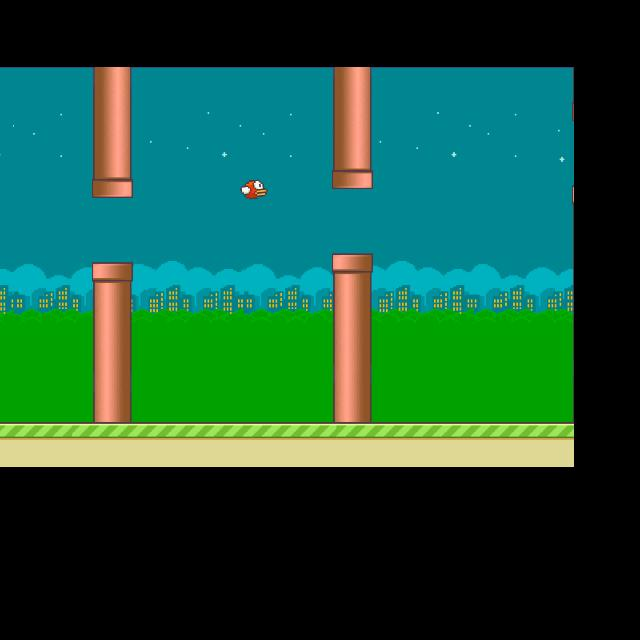bird: (238, 179, 266, 197)
pipedown: (333, 254, 372, 407), (92, 262, 133, 397)
pipeup: (91, 79, 131, 197), (331, 82, 373, 189)
